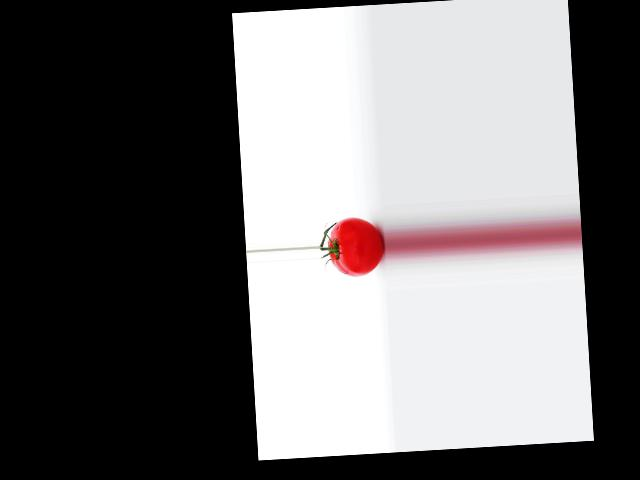tomato: (327, 216, 385, 279)
